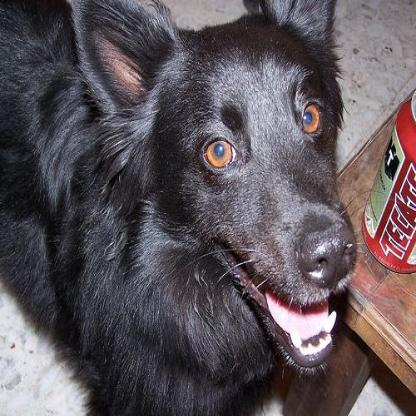schipperke: (0, 0, 358, 412)
